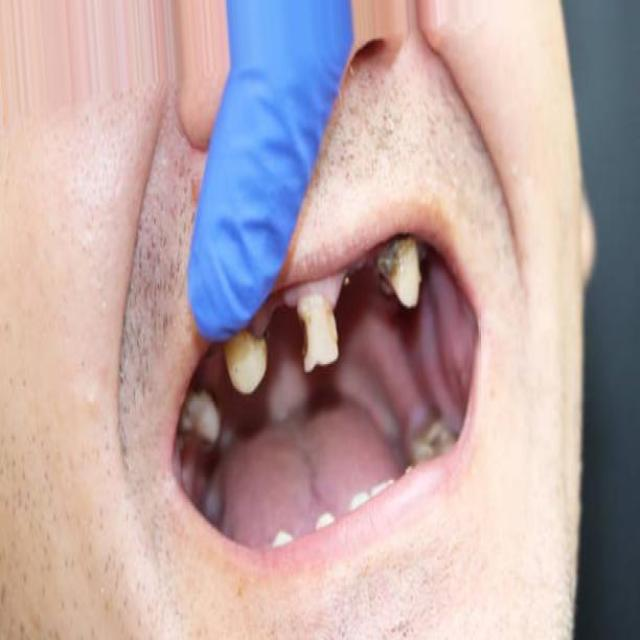caries: (293, 294, 344, 374)
